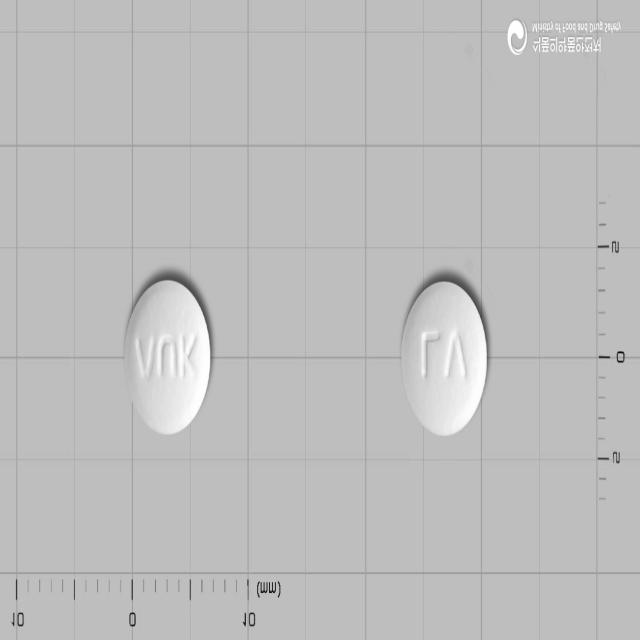Clamacin: (124, 278, 211, 438), (401, 280, 488, 440)
